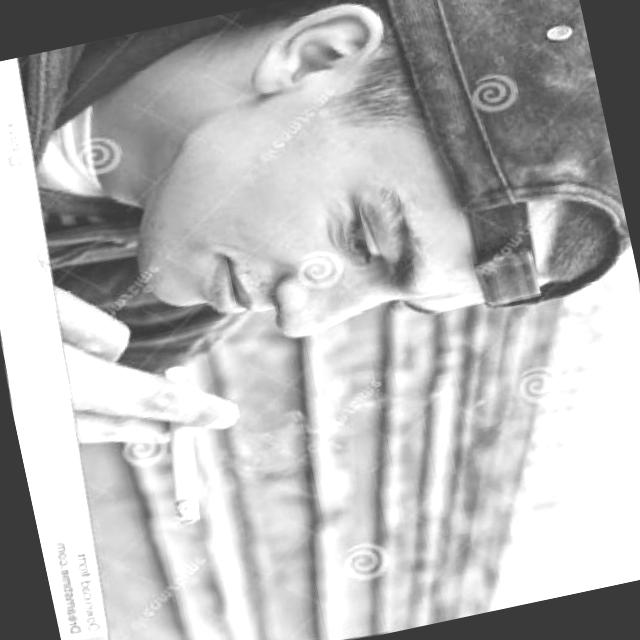cigarette: (136, 361, 218, 532)
